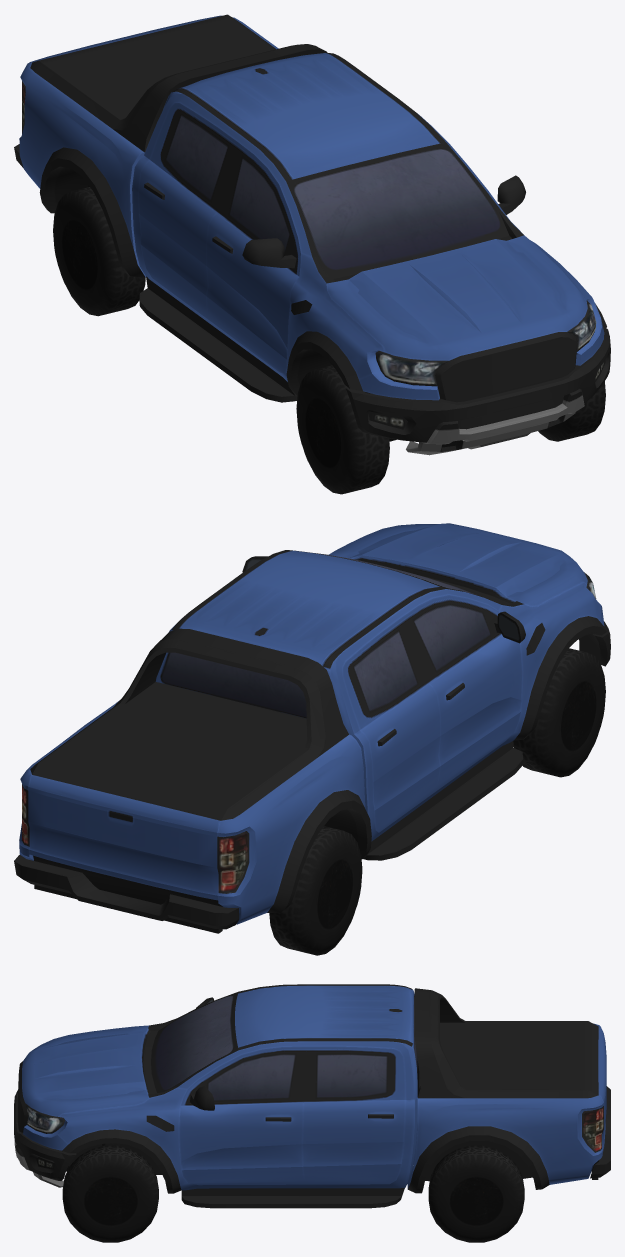
File: ford-ranger-wildtrak.glb
3 renders of one model, top to bottom at view 1: azimuth 30°, elevation 25°; view 2: azimuth 150°, elevation 25°; view 3: azimuth 270°, elevation 25°, orthographic. The views are drawn at different scales.
Visible parts, largest first — view 1: Object_2, Object_3; view 2: Object_2, Object_3; view 3: Object_2, Object_3.
Part boxes in pixels (x1=…): Object_2: x1=14, y1=14, x2=610, y2=455; Object_3: x1=53, y1=187, x2=605, y2=494; Object_2: x1=14, y1=523, x2=610, y2=933; Object_3: x1=269, y1=648, x2=605, y2=955; Object_2: x1=14, y1=984, x2=610, y2=1208; Object_3: x1=62, y1=1145, x2=524, y2=1242.
Bounding box in the file's own units: 83.82 × 72.15 × 207.
Materials: 2 (2 with a texture image).
